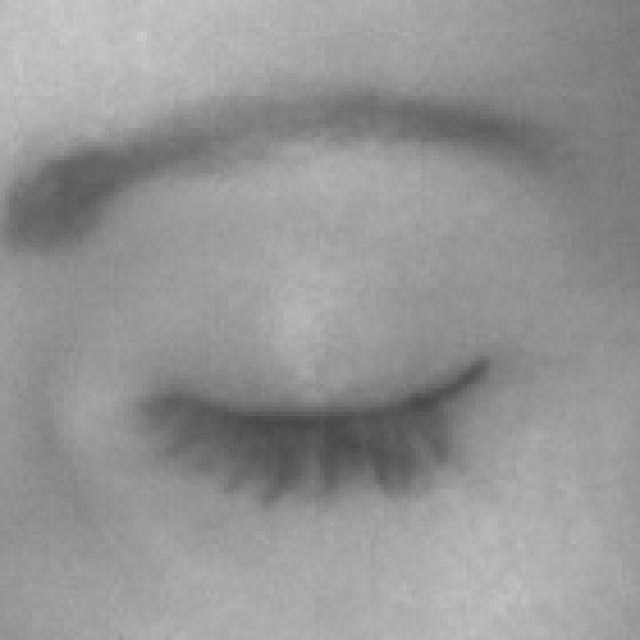close: (2, 43, 640, 603)
